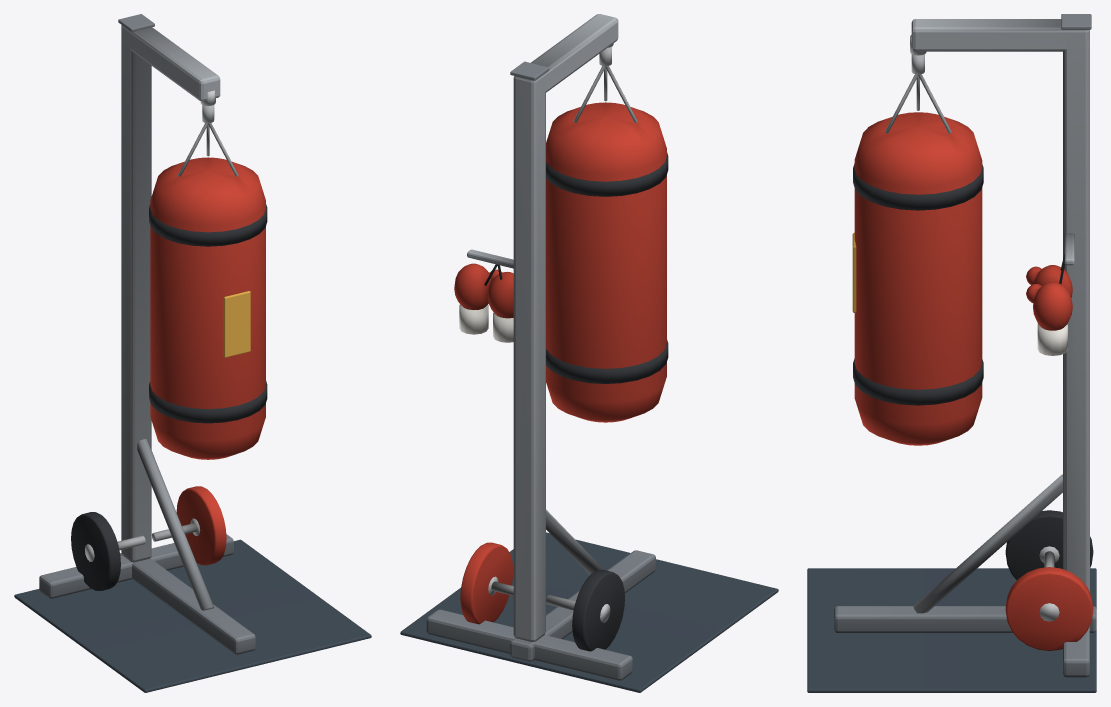
The model's file is heavyBag.glb.
The picture shows the model from 3 angles, left to right: view 1: azimuth 30°, elevation 25°; view 2: azimuth 150°, elevation 25°; view 3: azimuth 270°, elevation 25°; orthographic projection. The views are drawn at different scales.
Parts seen in each view (by area): view 1: body, bag; view 2: body, bag; view 3: body, bag.
Part boxes in pixels (bbox=[...]): body: bbox=[14, 14, 371, 692]; bag: bbox=[149, 105, 267, 459]; body: bbox=[400, 14, 778, 692]; bag: bbox=[546, 46, 668, 422]; body: bbox=[807, 14, 1096, 692]; bag: bbox=[852, 54, 983, 445].
Size of the model in its own units: 0.86 by 2.01 by 0.86.
